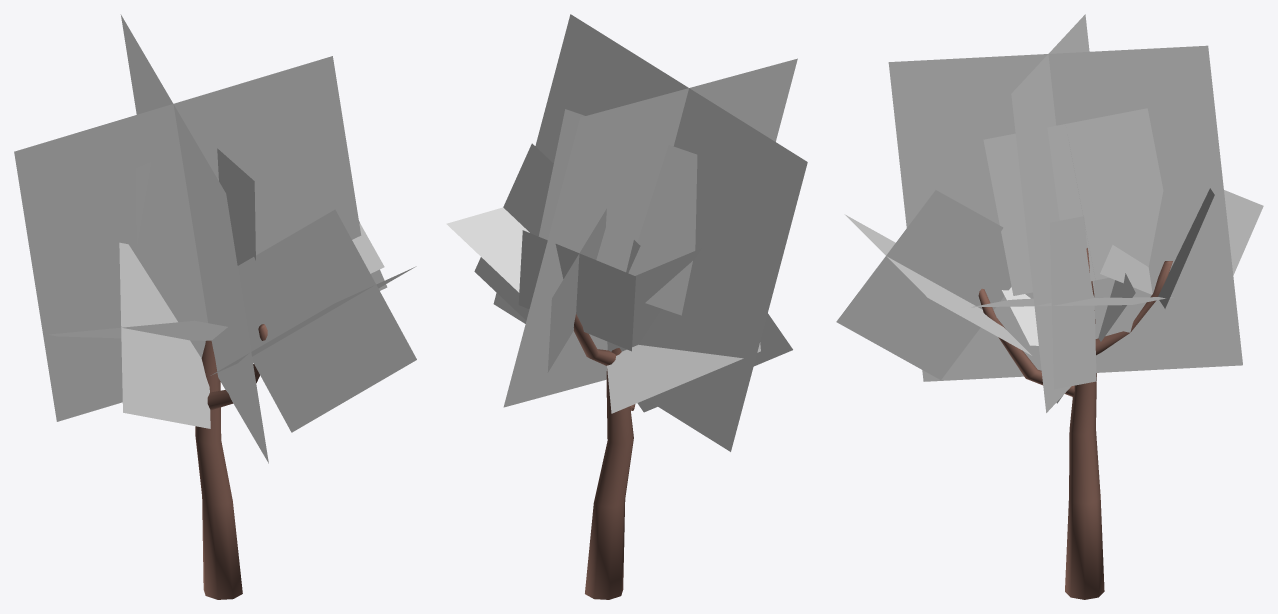
The model's file is Tree5.fbx.
3 renders of one model, left to right at view 1: azimuth 30°, elevation 25°; view 2: azimuth 150°, elevation 25°; view 3: azimuth 270°, elevation 25°, orthographic. The views are drawn at different scales.
Parts seen in each view (by area): view 1: Plane.010; view 2: Plane.010; view 3: Plane.010.
Part boxes in pixels (<box>): Plane.010: <box>14,14,416,599</box>; Plane.010: <box>446,14,807,599</box>; Plane.010: <box>836,14,1263,599</box>.
Bounding box in the file's own units: 1178 × 1719 × 1252.
